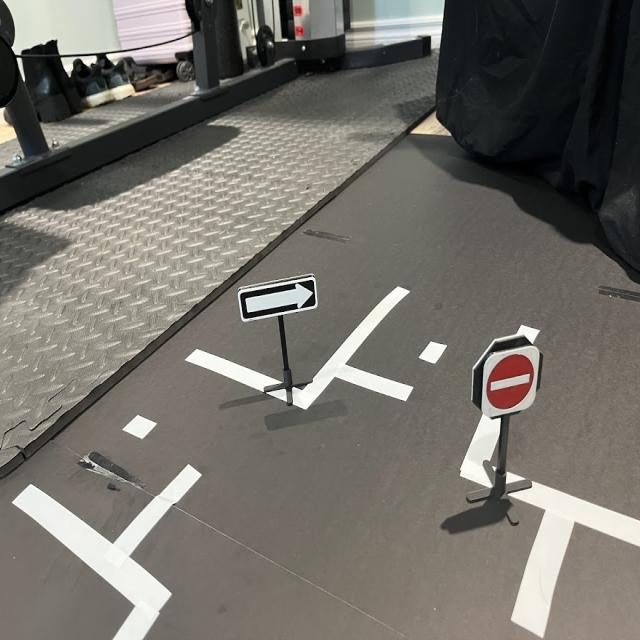sign_noentry: (480, 344, 545, 418)
sign_oneway_right: (238, 272, 321, 327)
